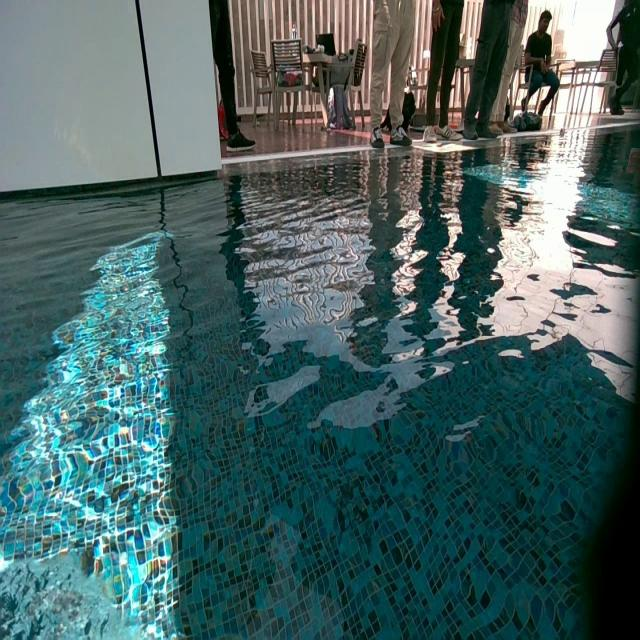Cans: (628, 146, 640, 167)
